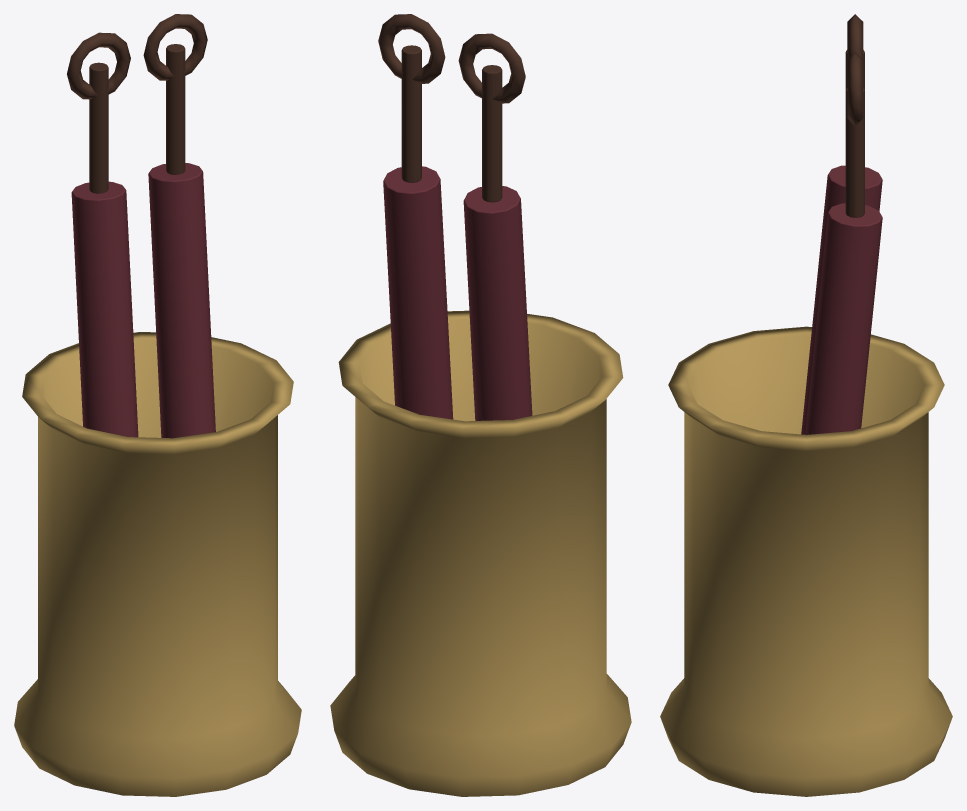
The model's file is rpg-mansion-umbrella-stand-01.glb.
3 renders of one model, left to right at view 1: azimuth 30°, elevation 25°; view 2: azimuth 150°, elevation 25°; view 3: azimuth 270°, elevation 25°, orthographic. The views are drawn at different scales.
Parts seen in each view (by area): view 1: rpg-mansion-umbrella-stand-01; view 2: rpg-mansion-umbrella-stand-01; view 3: rpg-mansion-umbrella-stand-01.
Part boxes in pixels (x1,y1,x2,y2): rpg-mansion-umbrella-stand-01: (14, 14, 301, 796); rpg-mansion-umbrella-stand-01: (330, 14, 631, 796); rpg-mansion-umbrella-stand-01: (660, 14, 952, 796).
Size of the model in its own units: 0.36 by 0.955 by 0.36.
